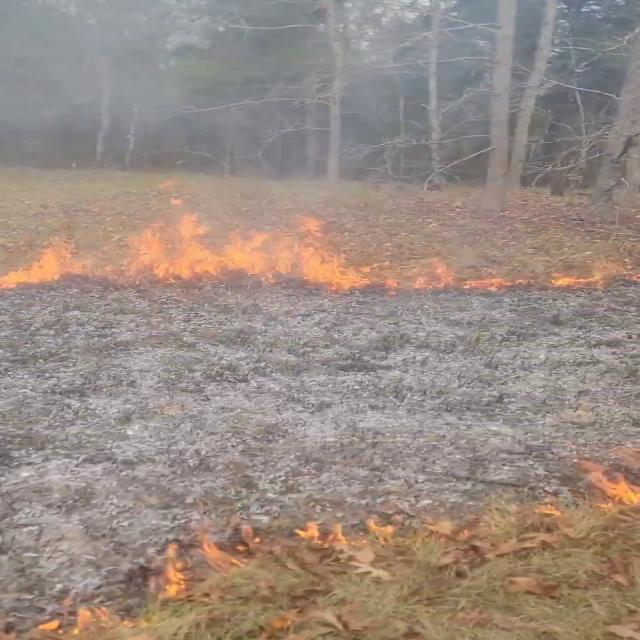Fire: (172, 494, 454, 586), (132, 194, 362, 286), (374, 254, 596, 296), (2, 238, 82, 288)
Smoke: (0, 0, 475, 174)
